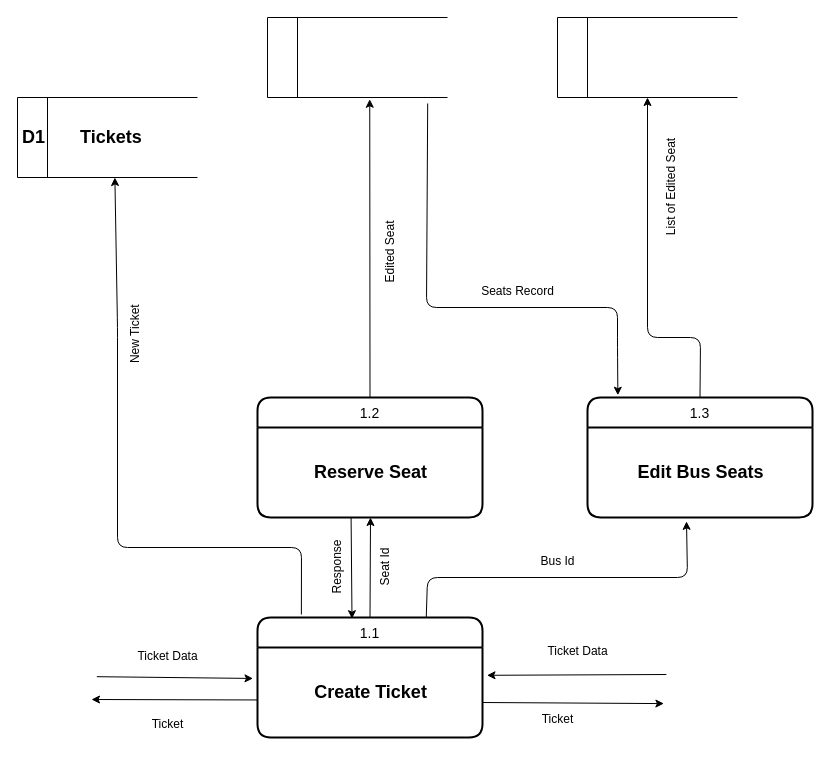
This 831x757 diagram has some shape labels left out. The shapes that lost their labels are listed below. From the top down, each one's centre as x and y in pixels, then its label:
At point (357, 57): "D5 Seats".
At point (647, 57): "D3 Buses".
